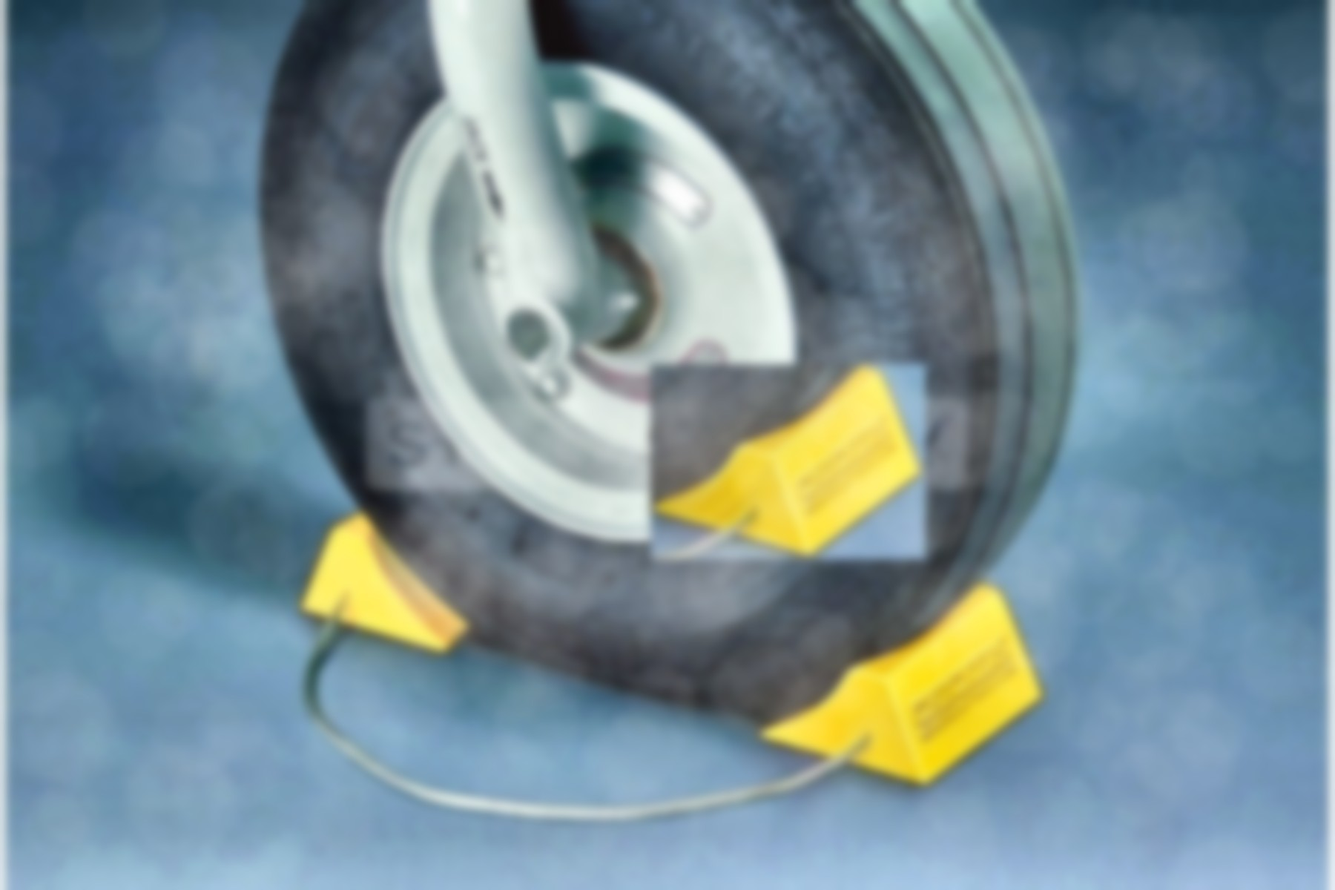chock: (758, 582, 1048, 789), (650, 364, 926, 559), (300, 508, 471, 654)
wheel: (250, 1, 1085, 716)
